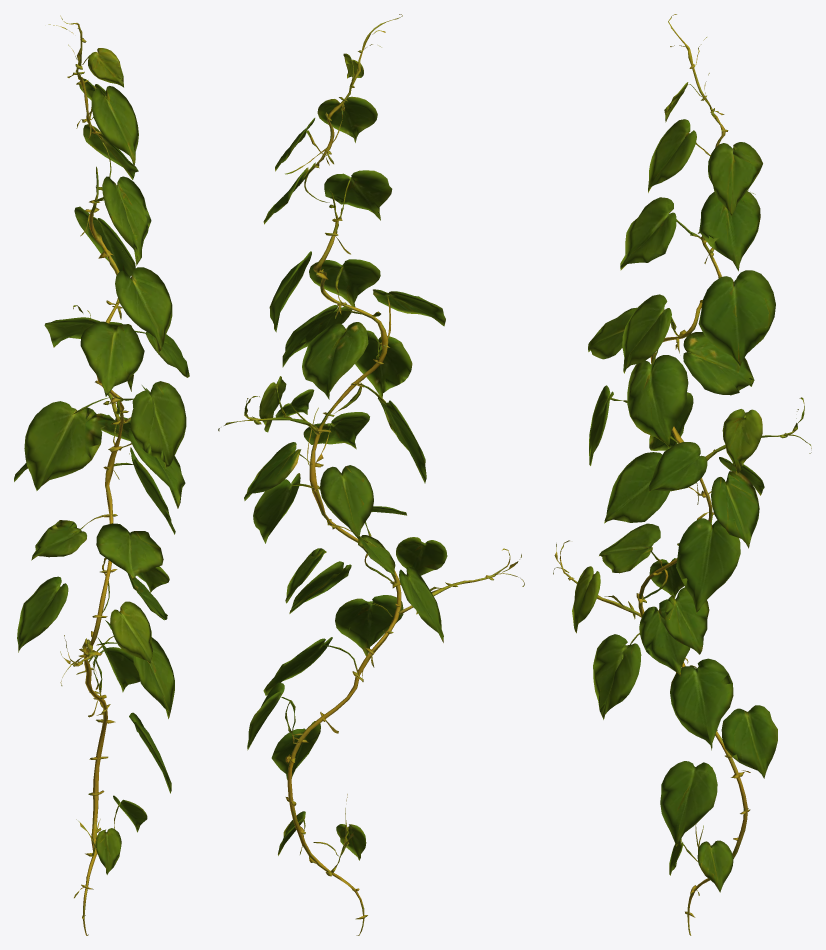
The model's file is vine_hang.glb.
The picture shows the model from 3 angles, left to right: view 1: azimuth 30°, elevation 25°; view 2: azimuth 150°, elevation 25°; view 3: azimuth 270°, elevation 25°; orthographic projection. The views are drawn at different scales.
Size of the model in its own units: 0.2116 by 1 by 0.2594.
Materials: 1 (1 with a texture image).
